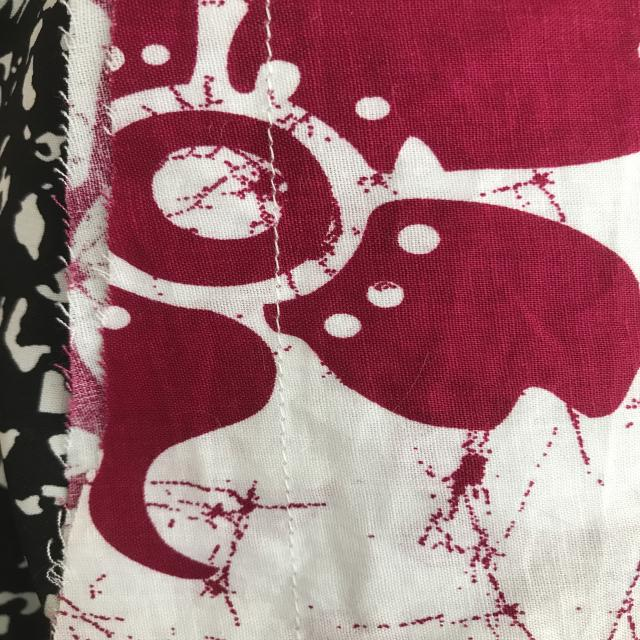good: (255, 143, 304, 261), (267, 417, 309, 486), (272, 519, 307, 575)
